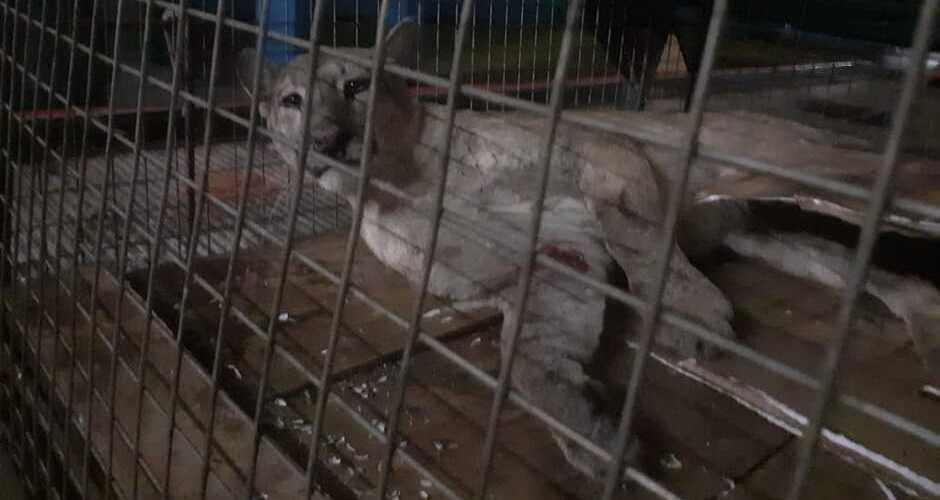OncaParda: (224, 17, 924, 479)
